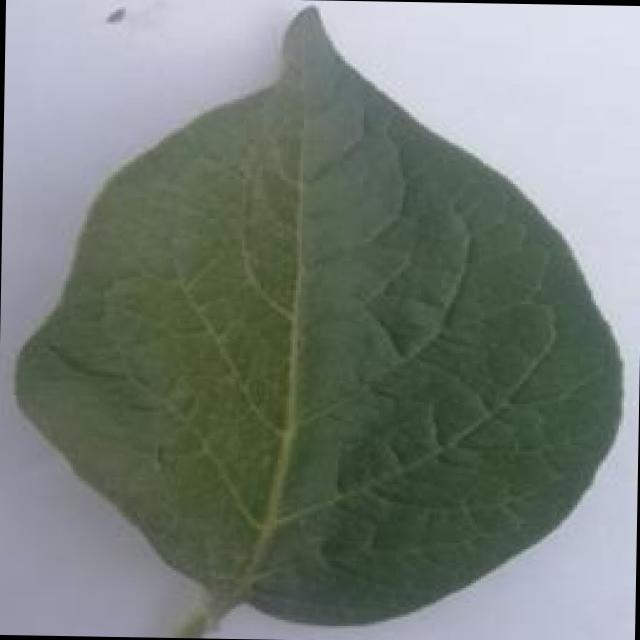Potato_Healthy: (11, 0, 621, 631)
